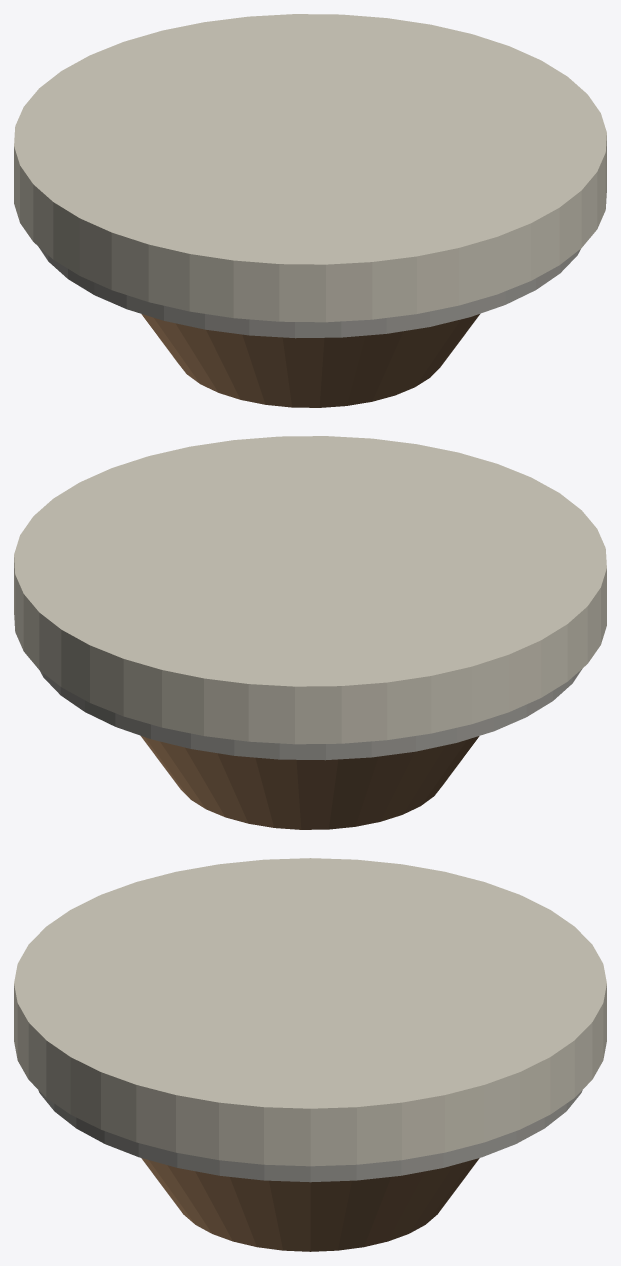
Rendered from bath-ceiling-light.glb.
The picture shows the model from 3 angles, top to bottom: view 1: azimuth 30°, elevation 25°; view 2: azimuth 150°, elevation 25°; view 3: azimuth 270°, elevation 25°; orthographic projection.
Visible parts, largest first — view 1: enamel, shade, brushed; view 2: enamel, shade, brushed; view 3: enamel, shade, brushed.
Part boxes in pixels (left/top/right/bottom): enamel: left=14, top=14, right=606, bottom=322; shade: left=141, top=314, right=479, bottom=407; brushed: left=39, top=247, right=580, bottom=338; enamel: left=14, top=436, right=606, bottom=744; shade: left=141, top=736, right=479, bottom=829; brushed: left=40, top=669, right=581, bottom=760; enamel: left=14, top=858, right=606, bottom=1166; shade: left=141, top=1158, right=479, bottom=1251; brushed: left=38, top=1090, right=582, bottom=1182.
Size of the model in its own units: 0.28 by 0.11 by 0.28.
